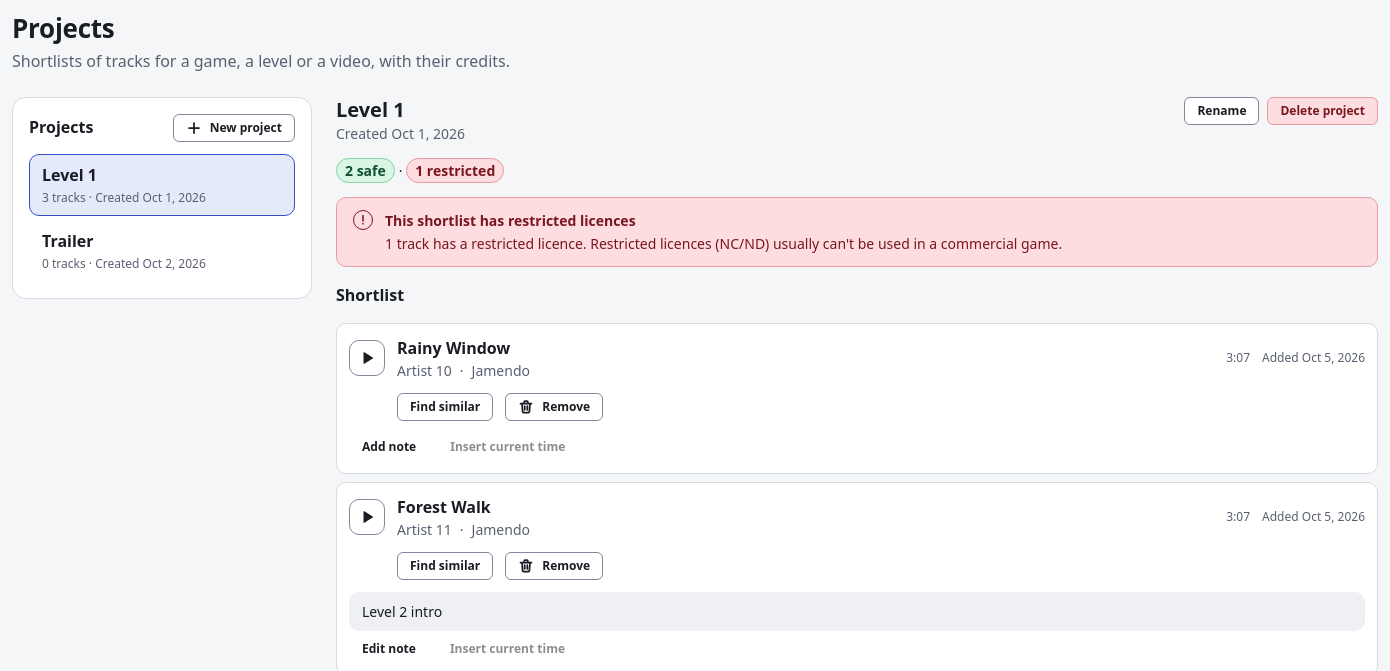
it: Projects page › a project › cancels a rename with Escape
This screenshot has width=1390, height=671.
Click the button "Rename". click: (1222, 110)
box: left=1184, top=96, right=1260, bottom=124
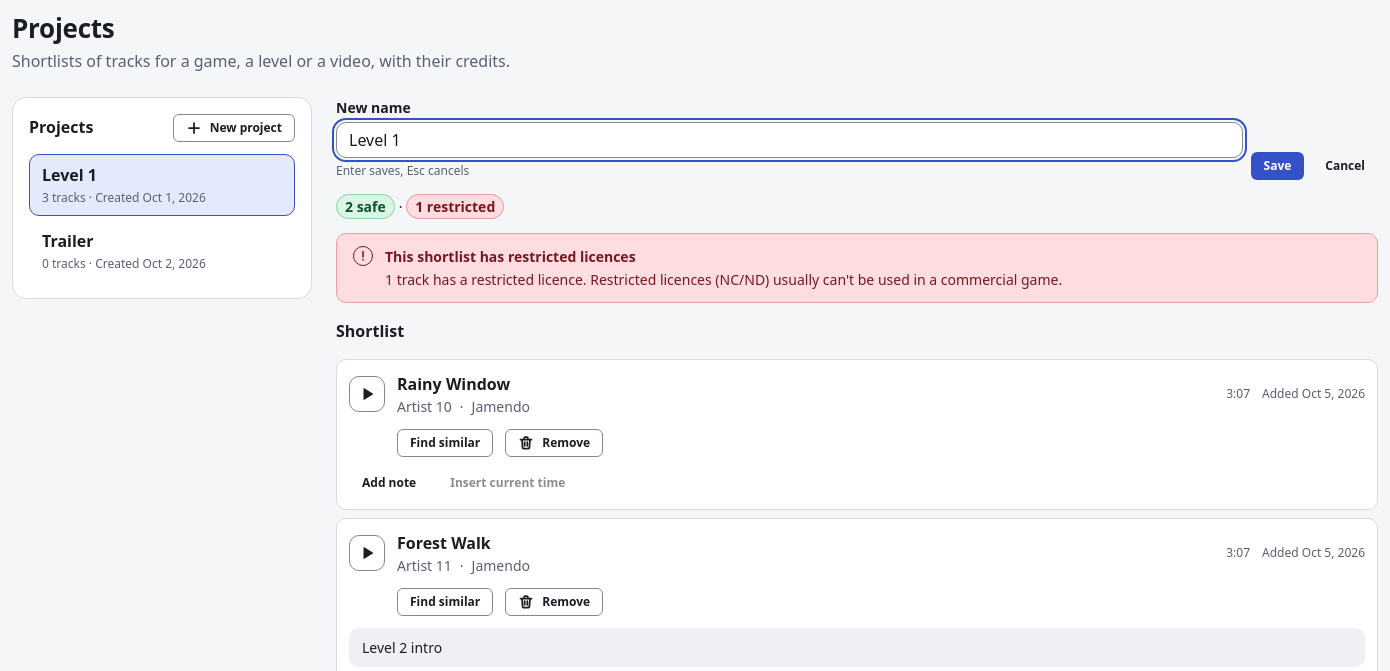
Type "x" into the field labelled "New name". click: (789, 140)
box: left=336, top=122, right=1242, bottom=158
Then press Escape
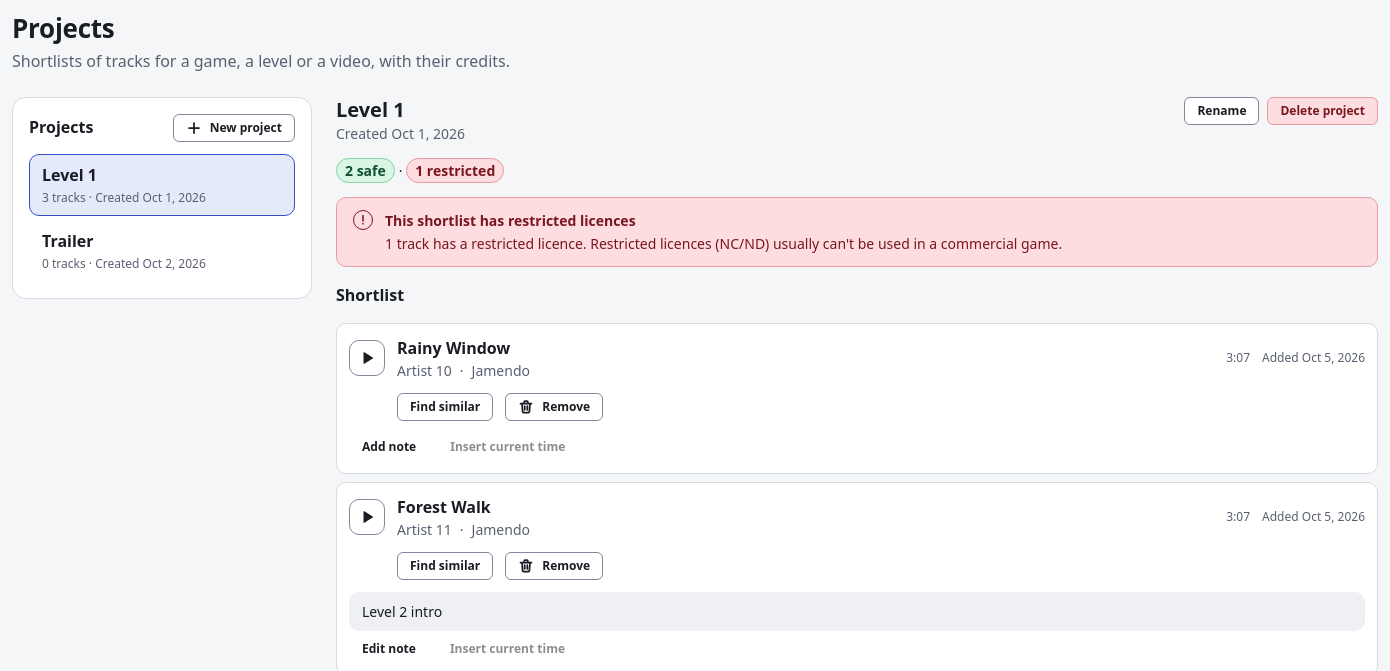
Result: the heading "Level 1" is shown at left=336, top=96, right=405, bottom=122
